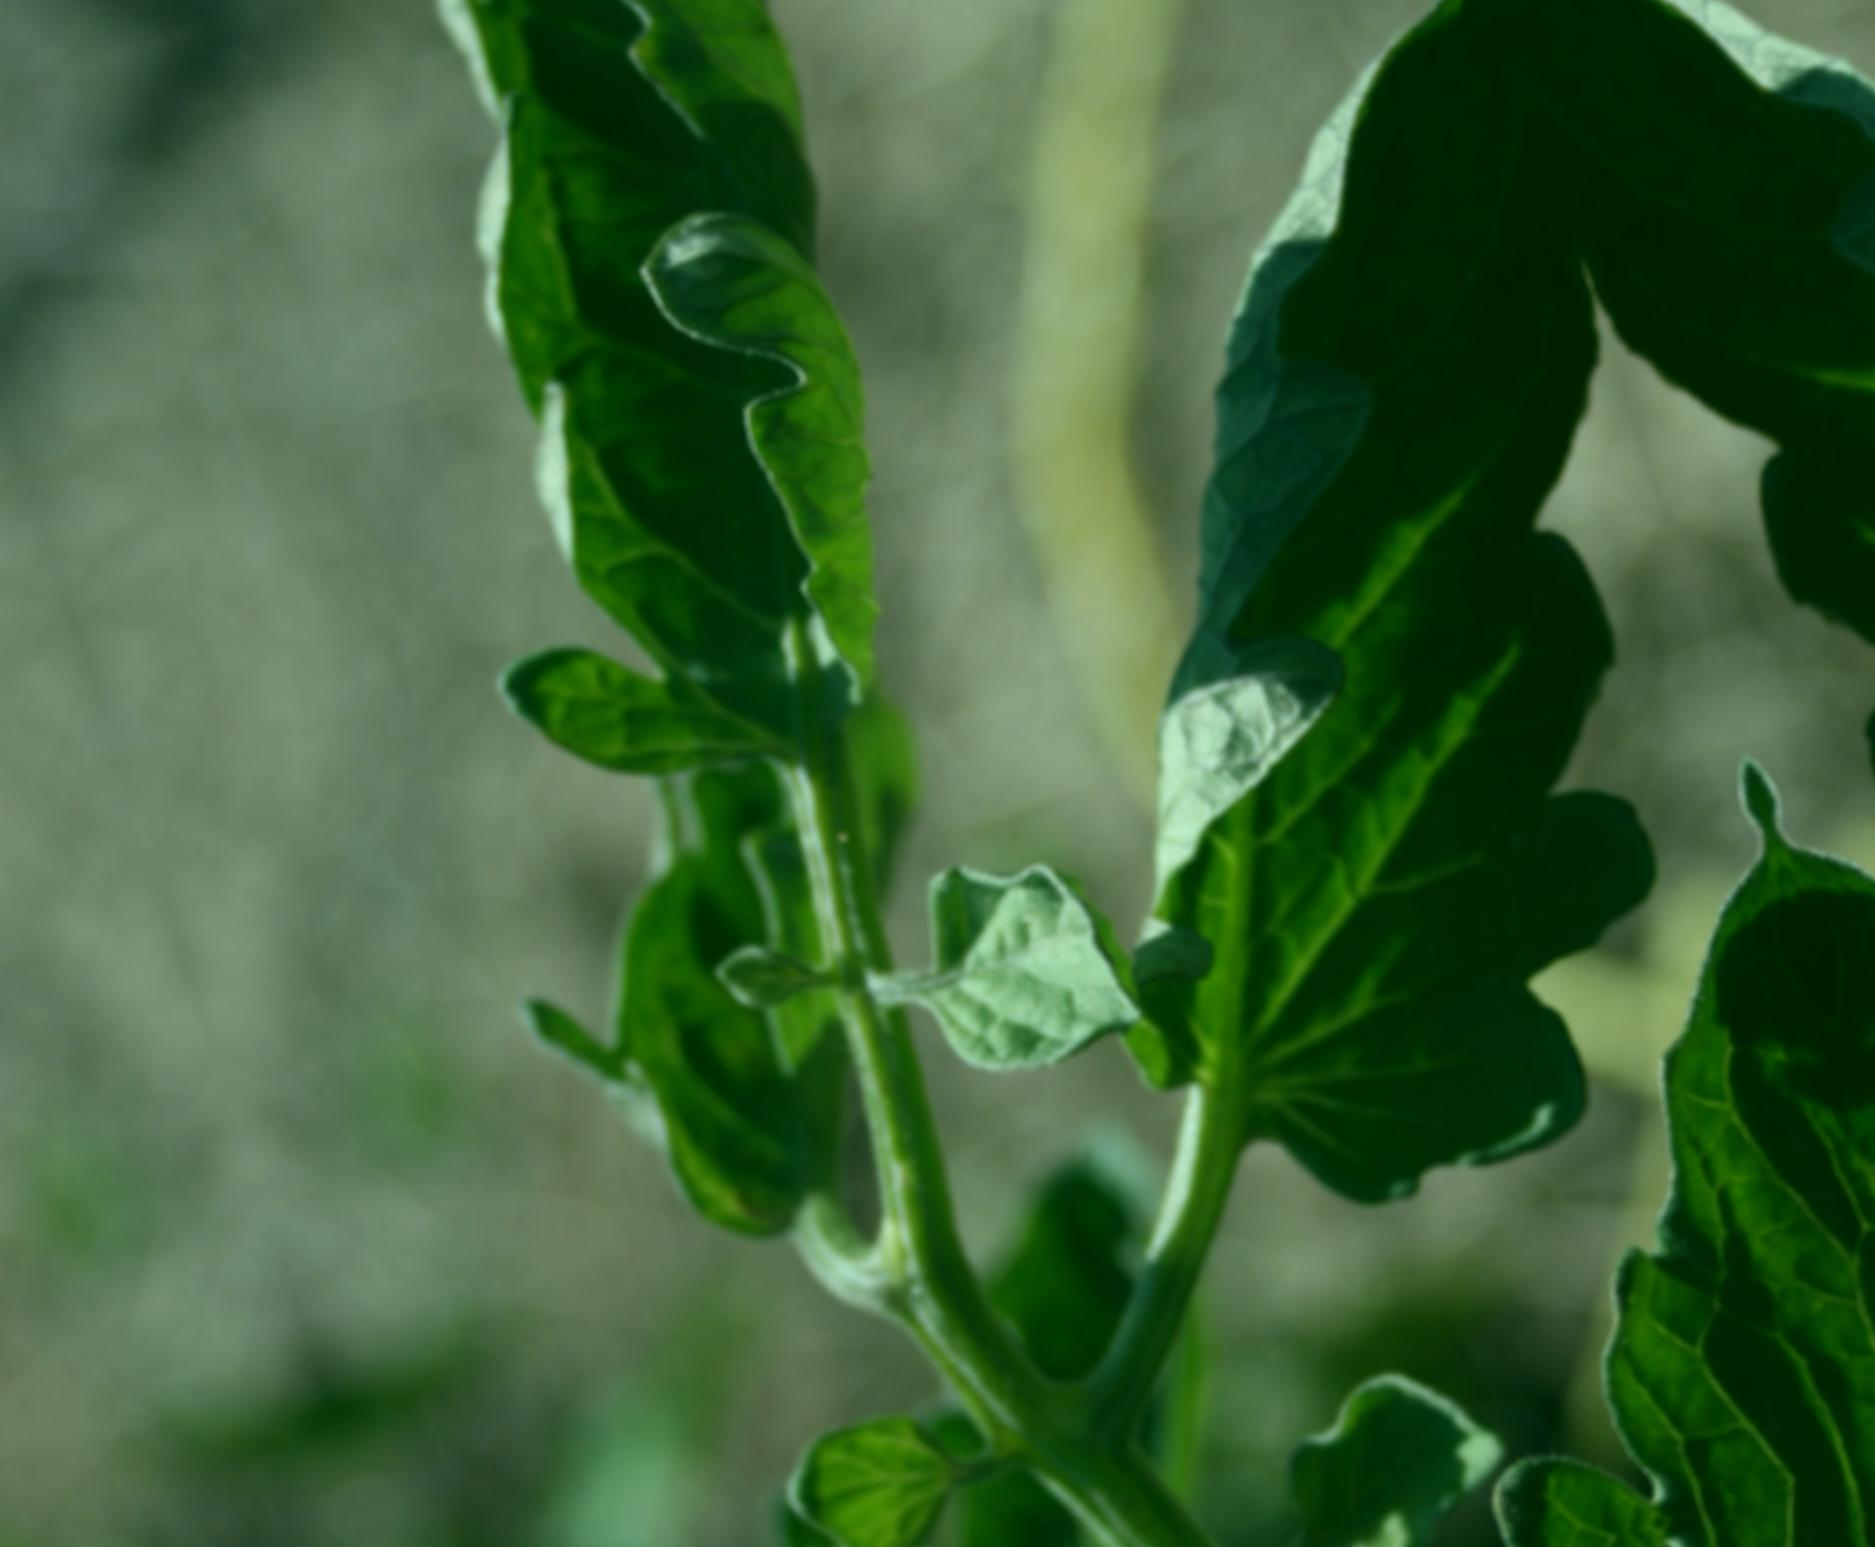Tomato leaf: (827, 0, 1835, 1242), (241, 0, 1140, 1030), (1246, 734, 1875, 1547)
